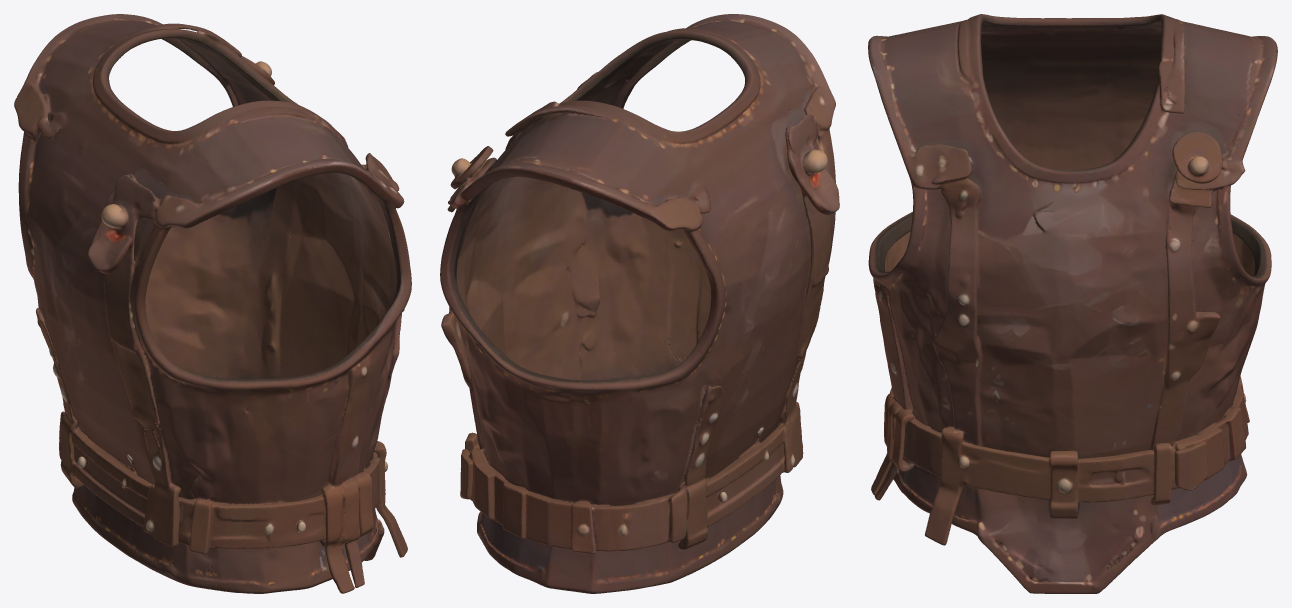
The model's file is gear_leather_chest.glb.
3 views of the same model, side by side, from view 1: azimuth 30°, elevation 25°; view 2: azimuth 150°, elevation 25°; view 3: azimuth 270°, elevation 25° (orthographic). The views are drawn at different scales.
Parts seen in each view (by area): view 1: tripo_node_fa9bc4ad-7a87-4e50-87fb-8db9fb3ff7ce; view 2: tripo_node_fa9bc4ad-7a87-4e50-87fb-8db9fb3ff7ce; view 3: tripo_node_fa9bc4ad-7a87-4e50-87fb-8db9fb3ff7ce.
Part boxes in pixels (x1=…): tripo_node_fa9bc4ad-7a87-4e50-87fb-8db9fb3ff7ce: x1=14, y1=14, x2=411, y2=593; tripo_node_fa9bc4ad-7a87-4e50-87fb-8db9fb3ff7ce: x1=440, y1=14, x2=839, y2=593; tripo_node_fa9bc4ad-7a87-4e50-87fb-8db9fb3ff7ce: x1=868, y1=14, x2=1277, y2=593.
Size of the model in its own units: 0.6129 by 0.9999 by 0.745.
1 material, 1 textured.
